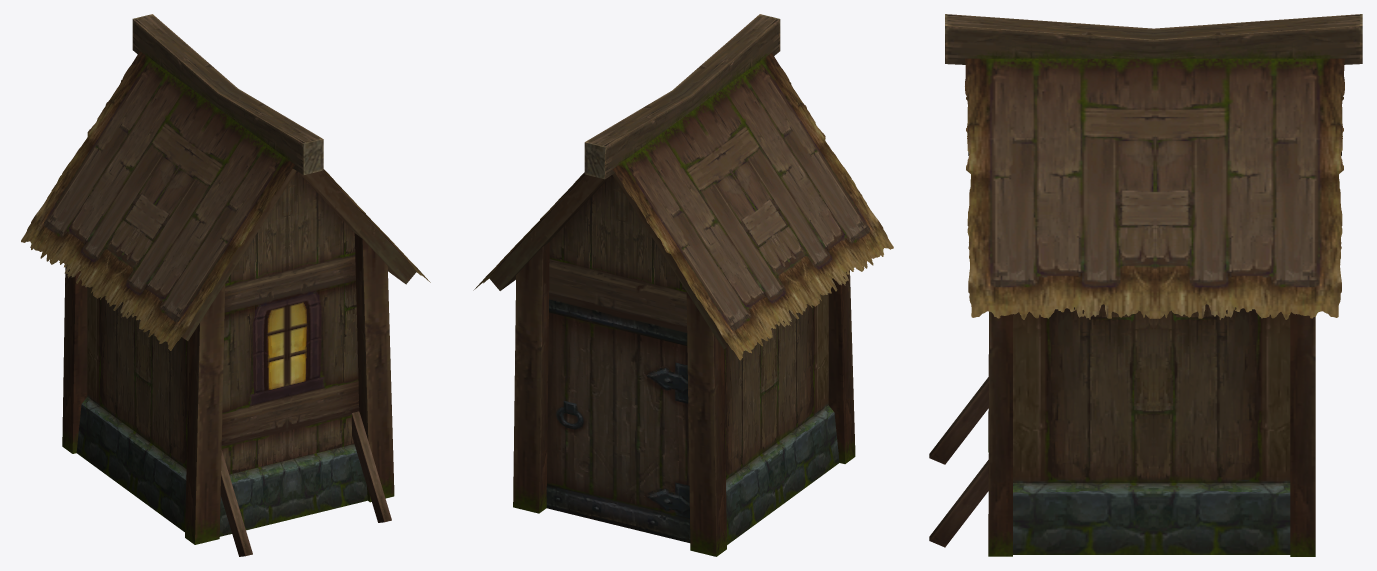
File: building_yewai_aifang02.FBX
3 renders of one model, left to right at view 1: azimuth 30°, elevation 25°; view 2: azimuth 150°, elevation 25°; view 3: azimuth 270°, elevation 25°, orthographic. The views are drawn at different scales.
Parts seen in each view (by area): view 1: building_yewai_aifang02; view 2: building_yewai_aifang02; view 3: building_yewai_aifang02.
Boxes of the visible parts, box(x1,y1,x2,y2) form: building_yewai_aifang02: box(21, 14, 430, 556); building_yewai_aifang02: box(473, 14, 893, 556); building_yewai_aifang02: box(929, 14, 1362, 556).
Bounding box in the file's own units: 4.92 × 7.06 × 5.72.
